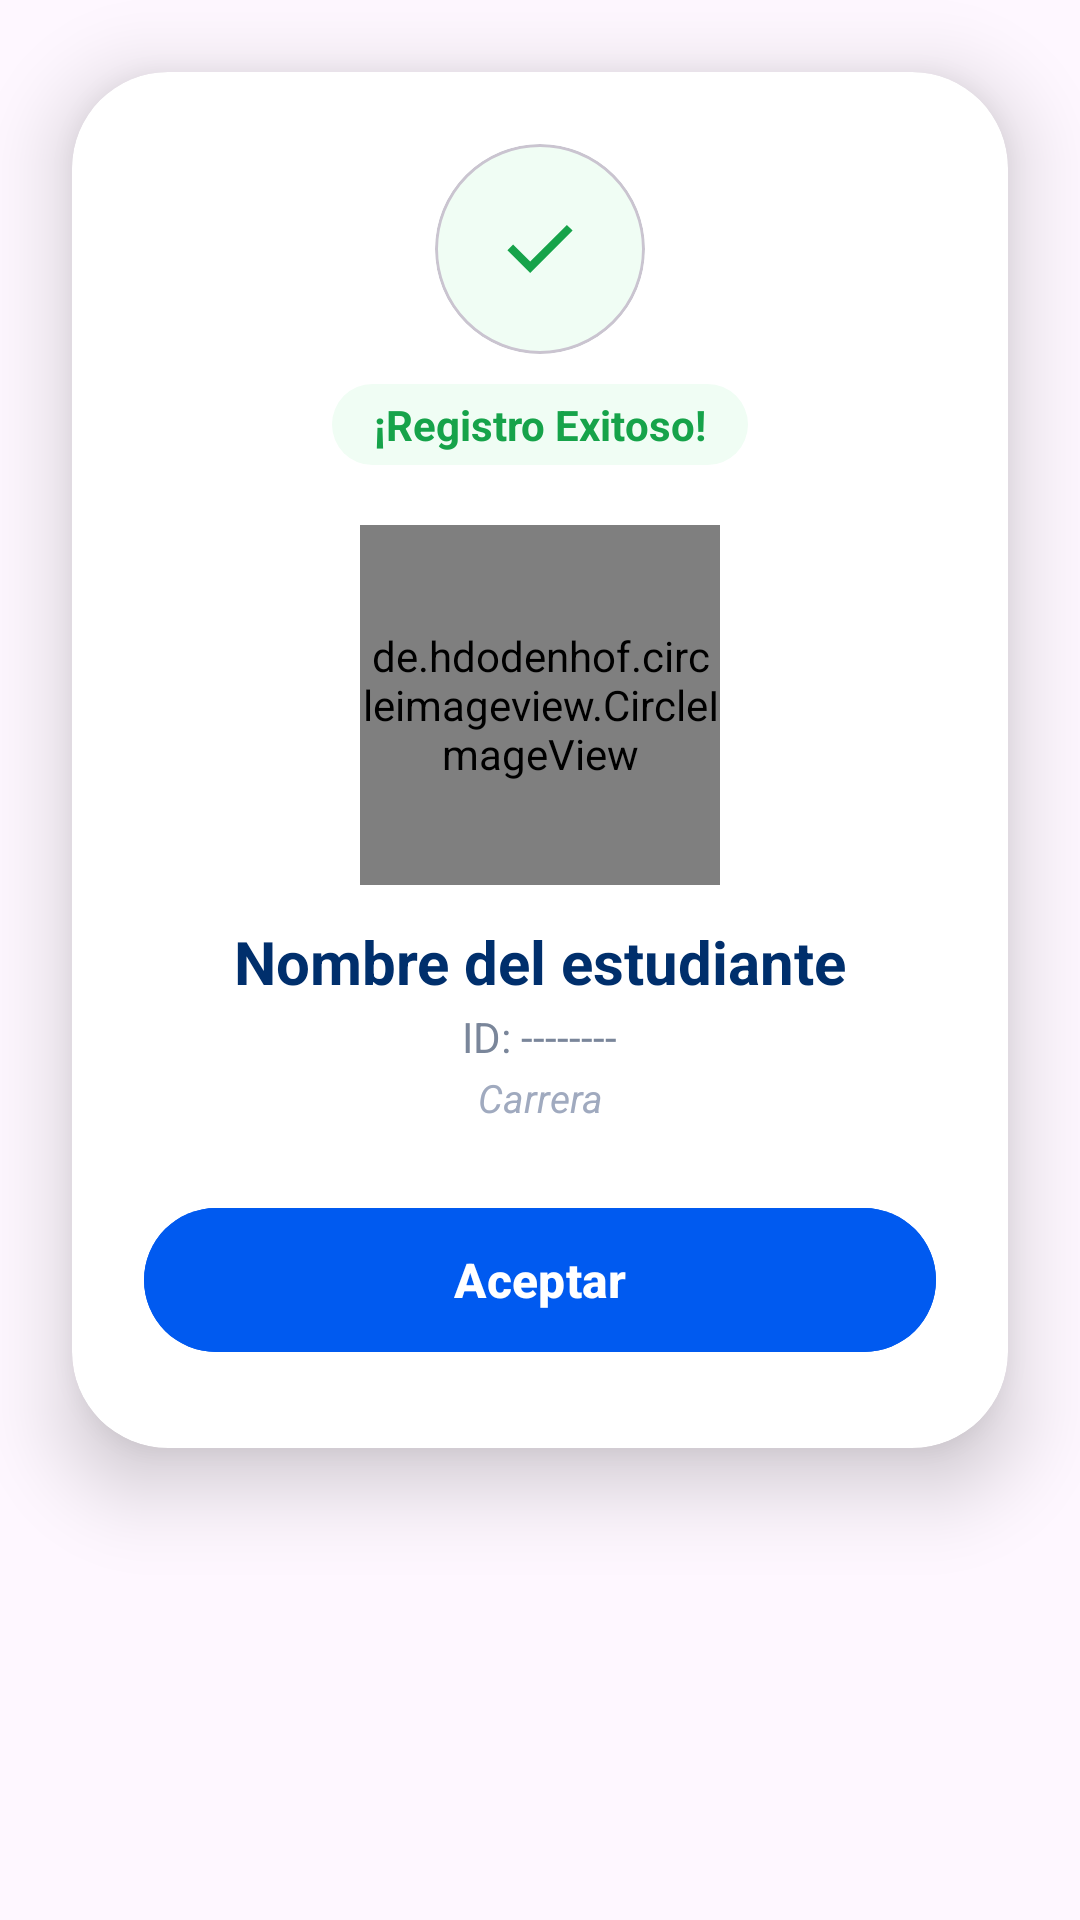

Locate icon controls on the screen. Image size 1080px x 1920px, boxes as (x1, y1, x2, y2).
check: (507, 225, 573, 273)
